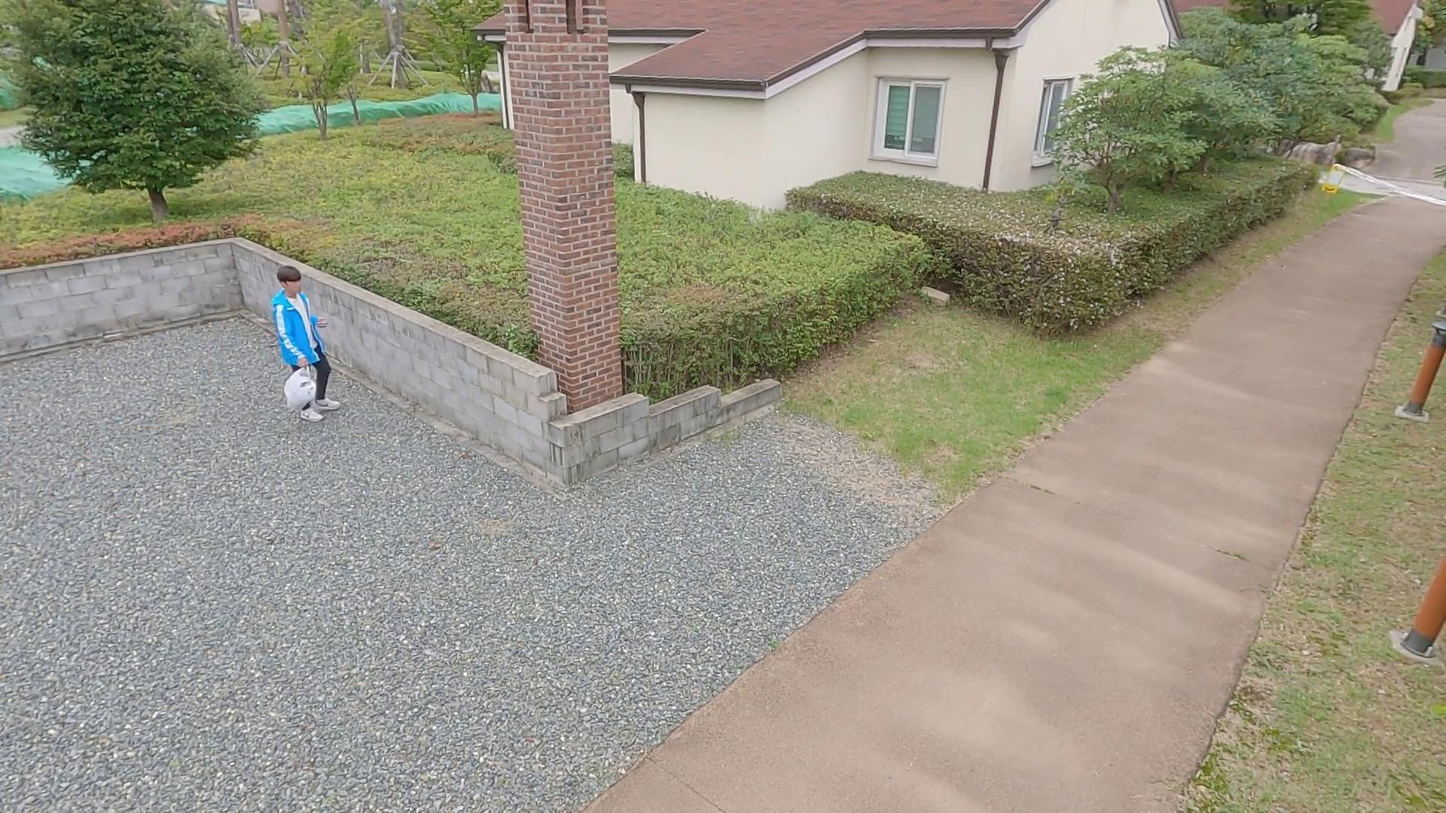person: (271, 262, 340, 422)
trash: (281, 365, 319, 408)
